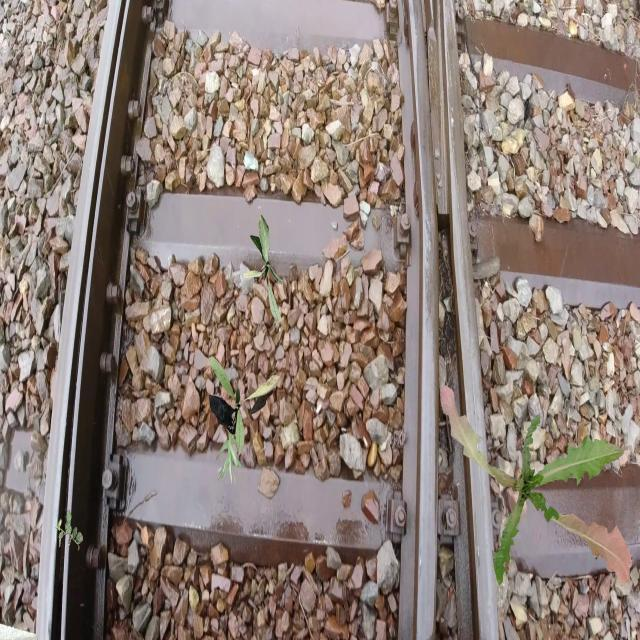Plant: (440, 385, 632, 588), (209, 356, 280, 456), (243, 215, 283, 325), (216, 430, 242, 487), (56, 510, 84, 551)
